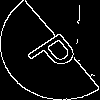P: (25, 25, 88, 79)
